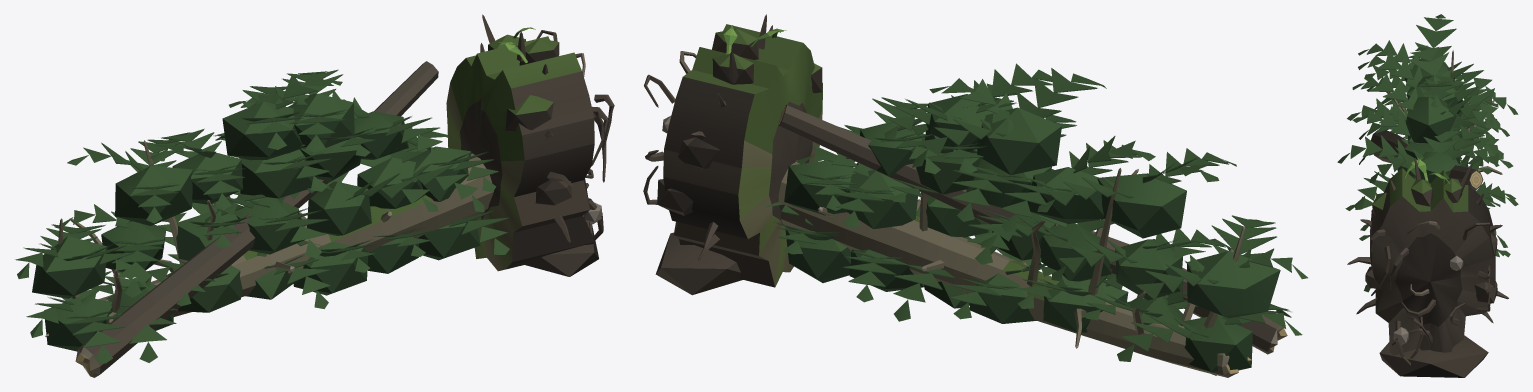
The model's file is root_plate.glb.
The picture shows the model from 3 angles, left to right: view 1: azimuth 30°, elevation 25°; view 2: azimuth 150°, elevation 25°; view 3: azimuth 270°, elevation 25°; orthographic projection. The views are drawn at different scales.
Visible parts, largest first — view 1: RootPlate; view 2: RootPlate; view 3: RootPlate.
Part boxes in pixels (bbox=[...]): RootPlate: bbox=[15, 14, 614, 377]; RootPlate: bbox=[643, 14, 1307, 377]; RootPlate: bbox=[1337, 14, 1518, 377].
Size of the model in its own units: 6 by 2.35 by 2.
